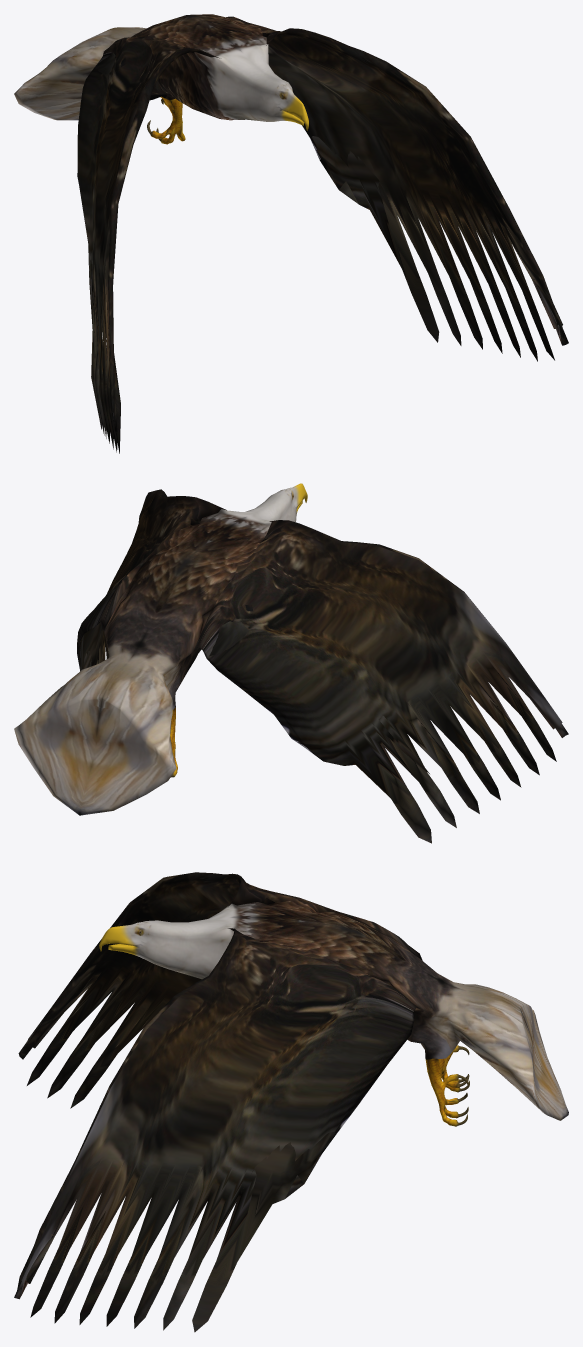
The model's file is Eagle-original_000089.obj.
The picture shows the model from 3 angles, top to bottom: view 1: azimuth 30°, elevation 25°; view 2: azimuth 150°, elevation 25°; view 3: azimuth 270°, elevation 25°; orthographic projection. The views are drawn at different scales.
Visible parts, largest first — view 1: Flugel_Plane.003; view 2: Flugel_Plane.003; view 3: Flugel_Plane.003.
Part boxes in pixels (x1,y1,x2,y2): Flugel_Plane.003: (14,14,568,453); Flugel_Plane.003: (14,483,568,843); Flugel_Plane.003: (14,872,568,1332).
Bounding box in the file's own units: 6.28 × 4.44 × 6.59.
1 material, 1 textured.
